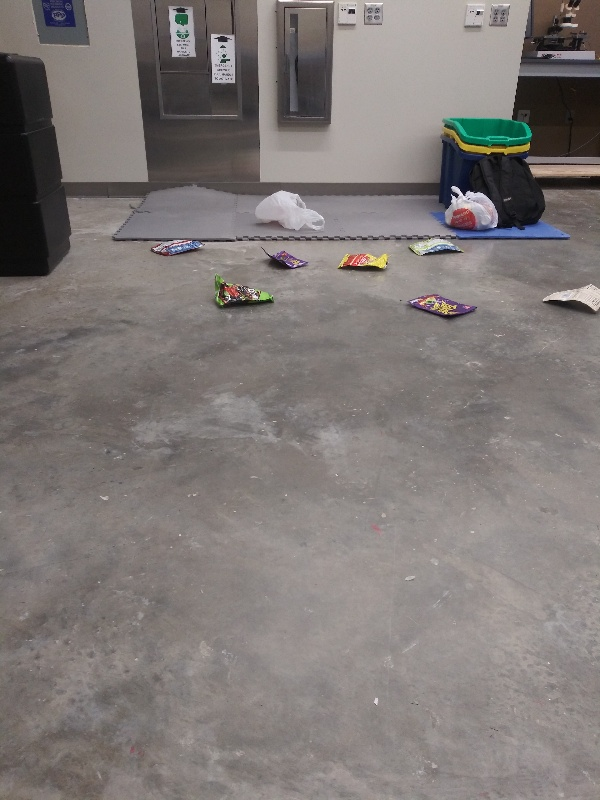bag: (399, 290, 482, 324), (208, 271, 277, 311), (540, 283, 600, 319), (334, 246, 392, 278), (258, 243, 314, 275), (146, 234, 210, 259), (403, 235, 468, 259)
